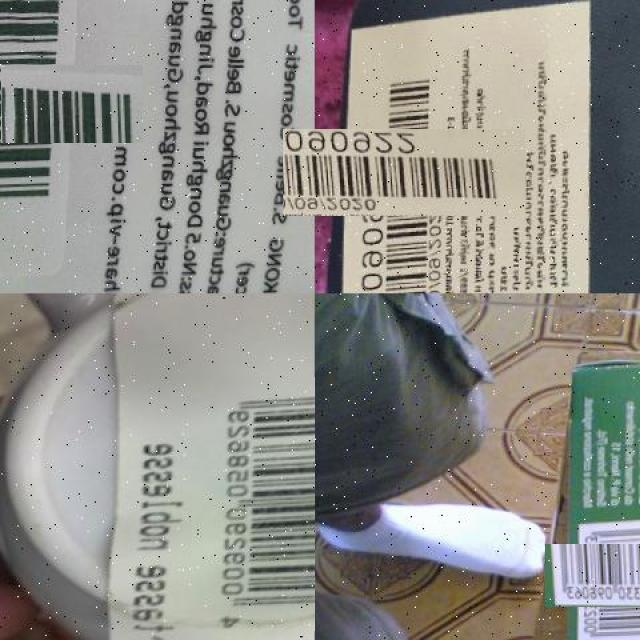Barcode: (322, 89, 486, 255), (210, 377, 314, 631), (0, 32, 111, 176), (561, 528, 640, 623)
